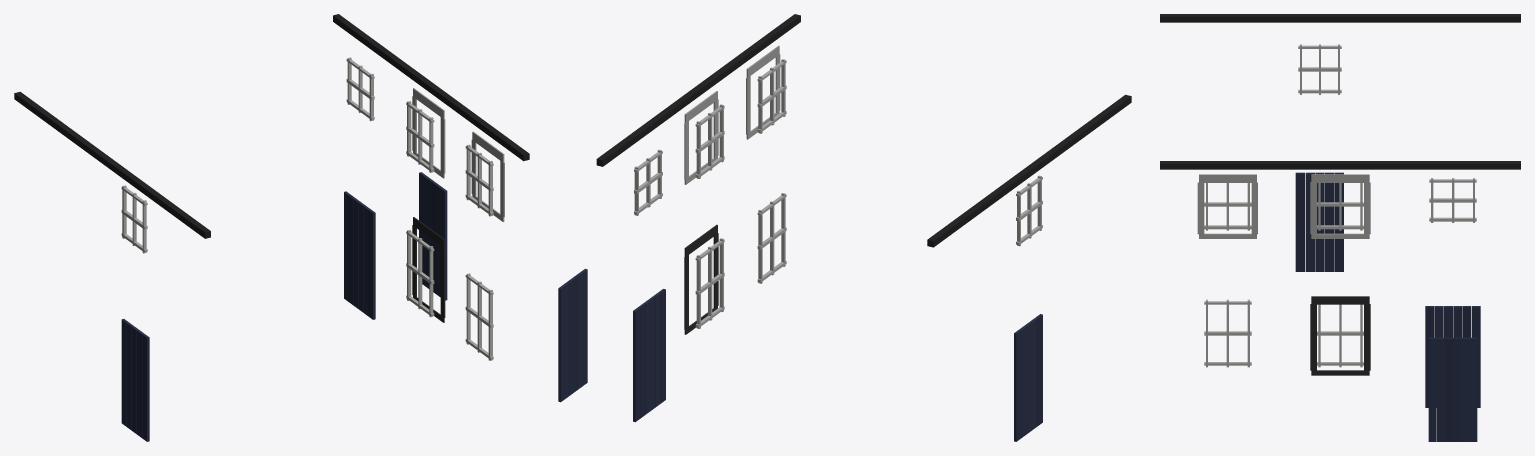
The model's file is SM_Bld_176_Wood.glb.
3 views of the same model, side by side, from view 1: azimuth 30°, elevation 25°; view 2: azimuth 150°, elevation 25°; view 3: azimuth 270°, elevation 25° (orthographic). The views are drawn at different scales.
Parts seen in each view (by area): view 1: SM_Bld_176_Wood; view 2: SM_Bld_176_Wood; view 3: SM_Bld_176_Wood.
Part boxes in pixels (box(x1,y1,x2,y2)): SM_Bld_176_Wood: box(14, 14, 529, 441); SM_Bld_176_Wood: box(558, 14, 1131, 441); SM_Bld_176_Wood: box(1160, 14, 1520, 441).
Size of the model in its own units: 7.74 by 5.1 by 6.65.
